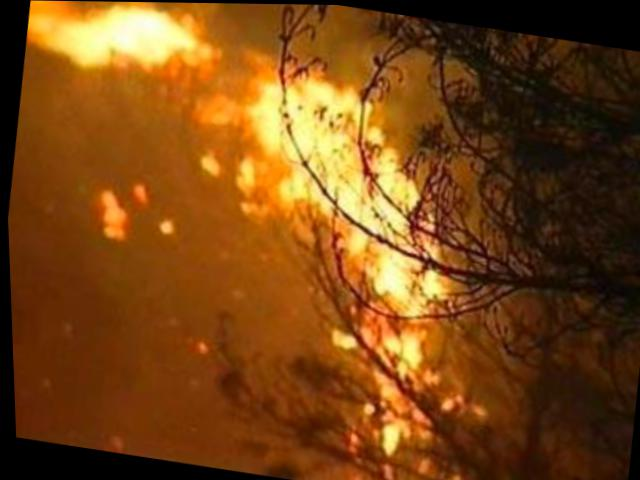fire: (162, 41, 527, 479), (24, 0, 224, 91), (90, 175, 150, 246)
